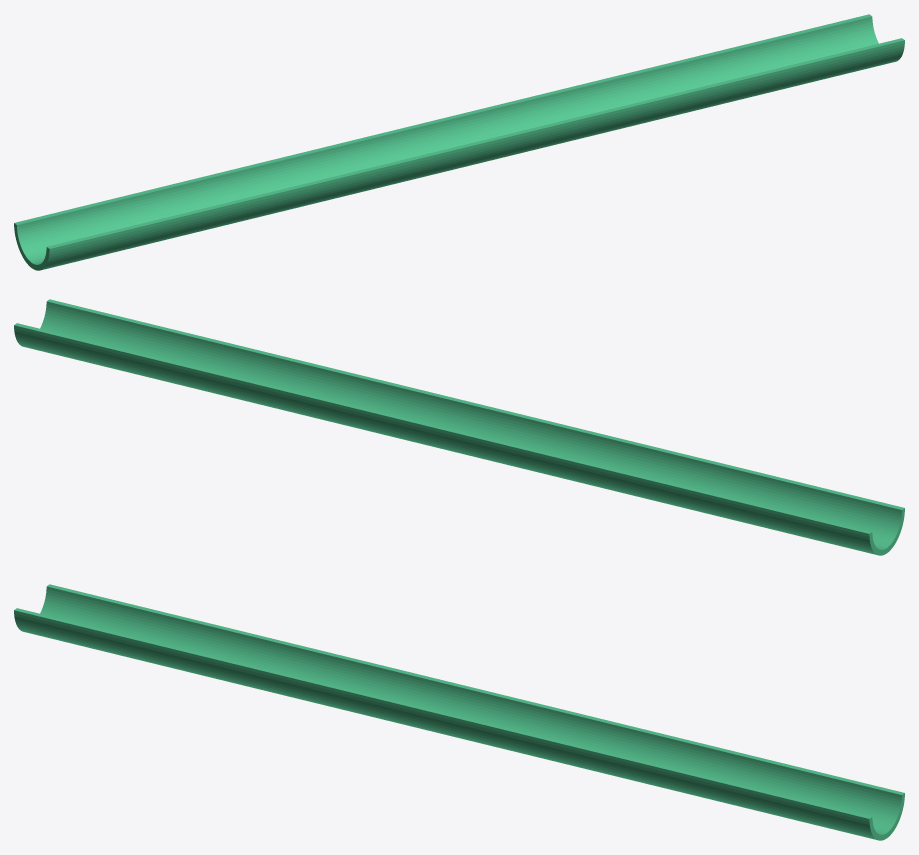
The model's file is gm_pipe_01.dae.
The picture shows the model from 3 angles, top to bottom: view 1: azimuth 30°, elevation 25°; view 2: azimuth 150°, elevation 25°; view 3: azimuth 330°, elevation 25°; orthographic projection.
Visible parts, largest first — view 1: Colmesh-1; view 2: Colmesh-1; view 3: Colmesh-1.
Boxes of the visible parts, x1=… form: Colmesh-1: x1=14, y1=14, x2=904, y2=270; Colmesh-1: x1=14, y1=299, x2=904, y2=555; Colmesh-1: x1=14, y1=584, x2=904, y2=840.
Bounding box in the file's own units: 400 × 28.8 × 14.4.
